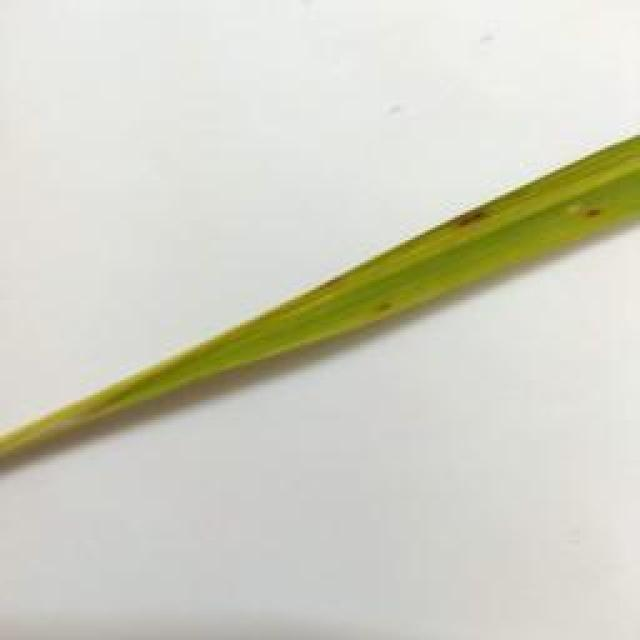Brown_Spot: (432, 193, 503, 244), (566, 196, 608, 235), (378, 290, 402, 316)
